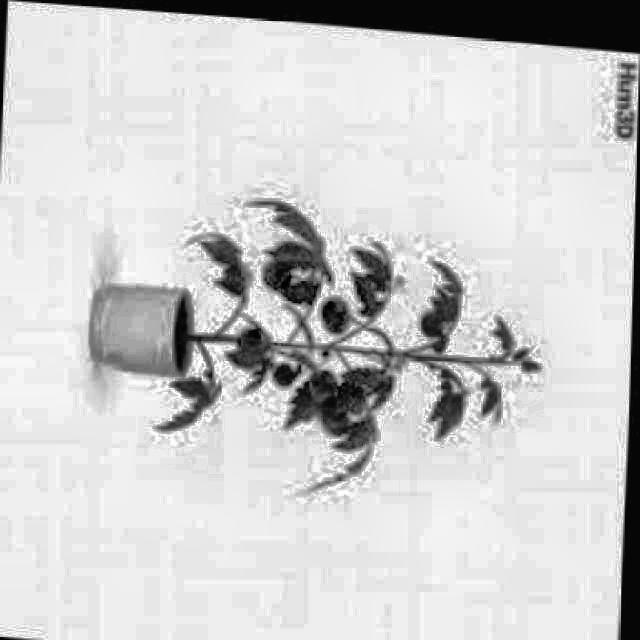plants: (74, 175, 542, 510)
